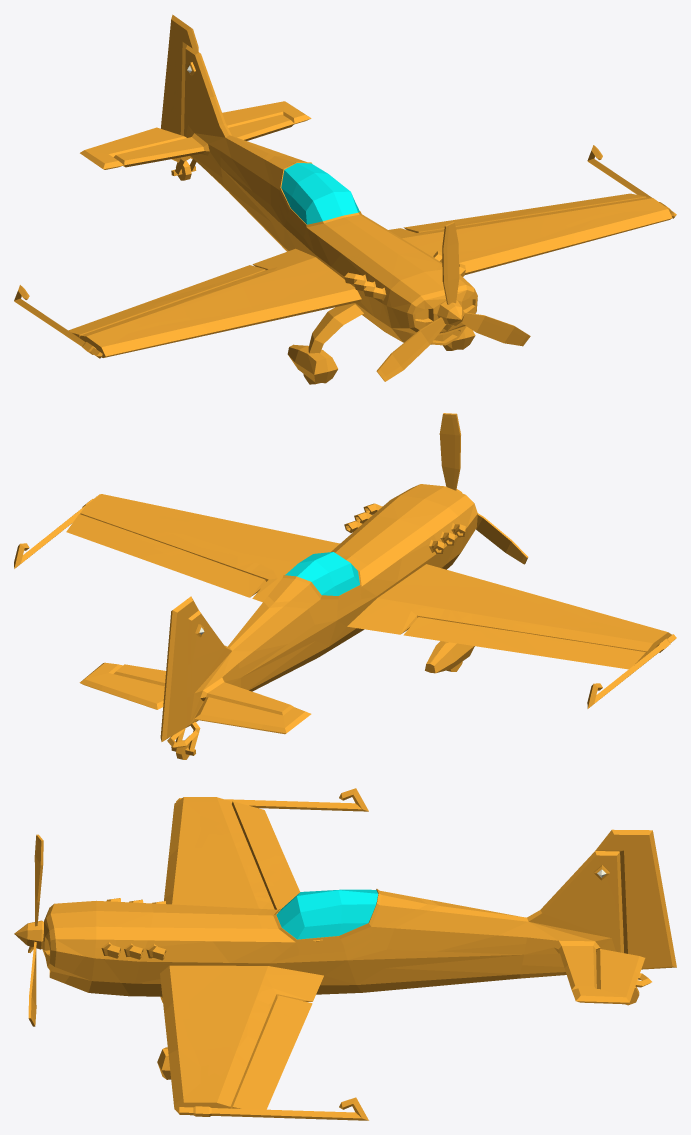
File: SM_Plane_Aerobatic.fbx
3 renders of one model, top to bottom at view 1: azimuth 30°, elevation 25°; view 2: azimuth 150°, elevation 25°; view 3: azimuth 270°, elevation 25°, orthographic. The views are drawn at different scales.
Parts seen in each view (by area): view 1: SM_Plane_Aerobatic_Base, SM_Plane_Aerobatic_Propeller, SM_Plane_Aerobatic_Door, SM_Plane_Aerobatic_Elevator, SM_Plane_Aerobatic_Rudder, SM_Plane_Aerobatic_Aileron_R, SM_Plane_Aerobatic_Aileron_L; view 2: SM_Plane_Aerobatic_Base, SM_Plane_Aerobatic_Aileron_R, SM_Plane_Aerobatic_Aileron_L, SM_Plane_Aerobatic_Elevator, SM_Plane_Aerobatic_Rudder, SM_Plane_Aerobatic_Door, SM_Plane_Aerobatic_Propeller; view 3: SM_Plane_Aerobatic_Base, SM_Plane_Aerobatic_Rudder, SM_Plane_Aerobatic_Door, SM_Plane_Aerobatic_Aileron_L, SM_Plane_Aerobatic_Aileron_R, SM_Plane_Aerobatic_Elevator, SM_Plane_Aerobatic_Propeller.
Boxes of the visible parts, left/top/right/bottom form: SM_Plane_Aerobatic_Base: left=14, top=45, right=676, bottom=384; SM_Plane_Aerobatic_Propeller: left=376, top=222, right=530, bottom=381; SM_Plane_Aerobatic_Door: left=279, top=162, right=361, bottom=227; SM_Plane_Aerobatic_Elevator: left=80, top=101, right=311, bottom=169; SM_Plane_Aerobatic_Rudder: left=161, top=14, right=198, bottom=135; SM_Plane_Aerobatic_Aileron_R: left=68, top=265, right=265, bottom=337; SM_Plane_Aerobatic_Aileron_L: left=403, top=193, right=645, bottom=232; SM_Plane_Aerobatic_Base: left=14, top=484, right=676, bottom=759; SM_Plane_Aerobatic_Aileron_R: left=403, top=617, right=646, bottom=669; SM_Plane_Aerobatic_Aileron_L: left=66, top=514, right=265, bottom=597; SM_Plane_Aerobatic_Elevator: left=79, top=662, right=311, bottom=734; SM_Plane_Aerobatic_Rudder: left=160, top=596, right=198, bottom=741; SM_Plane_Aerobatic_Door: left=283, top=552, right=361, bottom=599; SM_Plane_Aerobatic_Propeller: left=439, top=413, right=528, bottom=564; SM_Plane_Aerobatic_Base: left=42, top=788, right=651, bottom=1120; SM_Plane_Aerobatic_Rudder: left=595, top=829, right=676, bottom=969; SM_Plane_Aerobatic_Door: left=273, top=889, right=381, bottom=942; SM_Plane_Aerobatic_Aileron_L: left=232, top=995, right=312, bottom=1109; SM_Plane_Aerobatic_Aileron_R: left=232, top=801, right=299, bottom=909; SM_Plane_Aerobatic_Elevator: left=571, top=949, right=645, bottom=1004; SM_Plane_Aerobatic_Propeller: left=14, top=834, right=43, bottom=1026.
Bounding box in the file's own units: 7.06 × 2.3 × 6.3.
